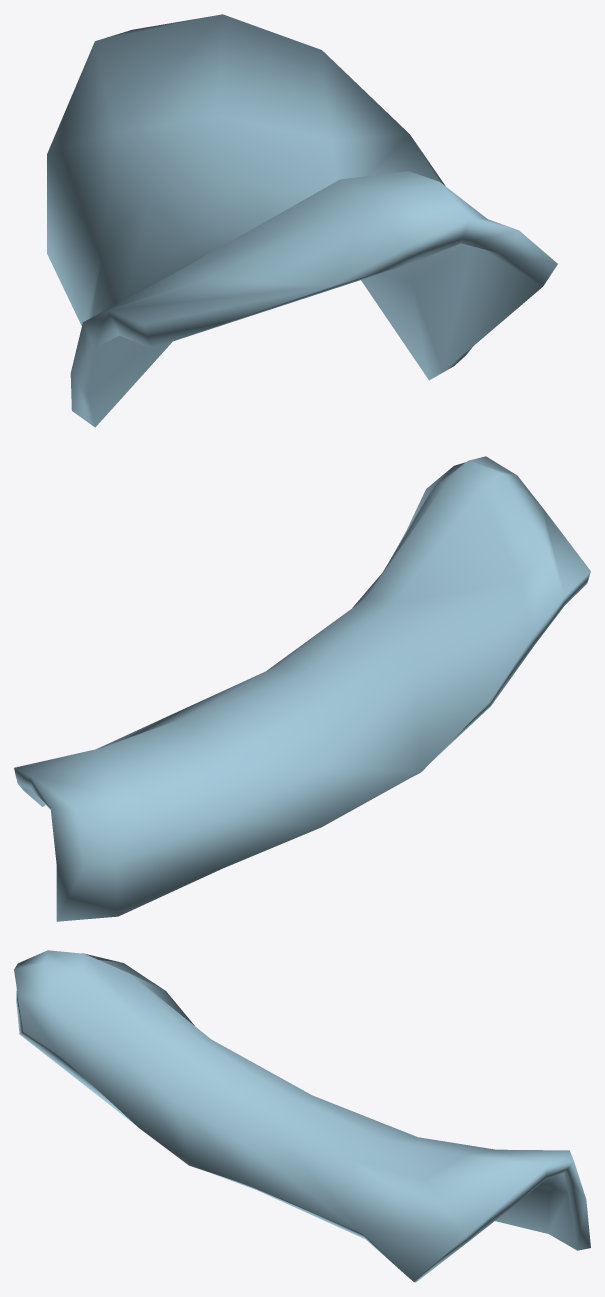
Rendered from articulacoes-posterior-meniscotibial-ligament-medial-meniscus-r.glb.
3 renders of one model, top to bottom at view 1: azimuth 30°, elevation 25°; view 2: azimuth 150°, elevation 25°; view 3: azimuth 270°, elevation 25°, orthographic. The views are drawn at different scales.
Parts seen in each view (by area): view 1: Posterior meniscotibial ligament (Medial meniscus).r; view 2: Posterior meniscotibial ligament (Medial meniscus).r; view 3: Posterior meniscotibial ligament (Medial meniscus).r.
Boxes of the visible parts, <box> form: Posterior meniscotibial ligament (Medial meniscus).r: <box>47,14,557,427</box>; Posterior meniscotibial ligament (Medial meniscus).r: <box>14,456,590,921</box>; Posterior meniscotibial ligament (Medial meniscus).r: <box>14,950,590,1282</box>.
Bounding box in the file's own units: 0.0135 × 0.00915 × 0.02.
